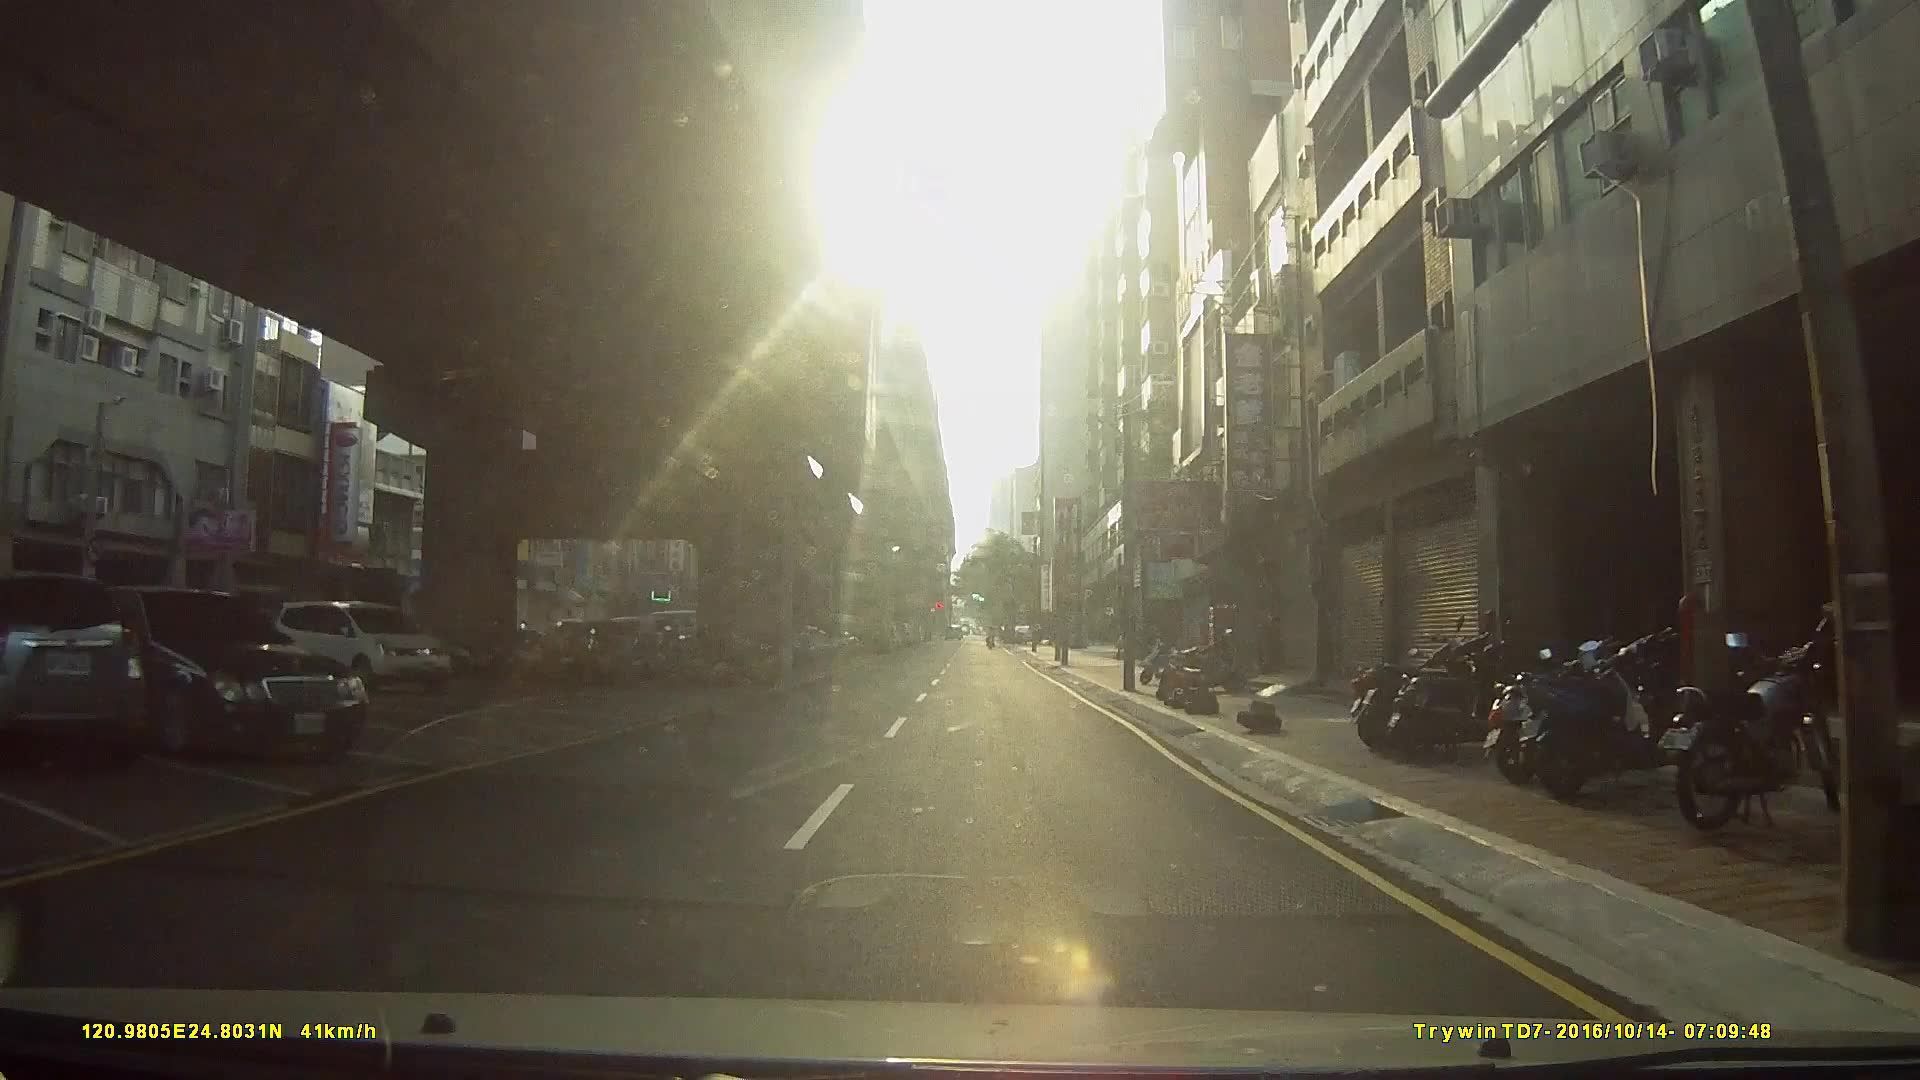vehicle: (54, 583, 371, 756), (3, 574, 138, 773), (269, 600, 448, 691)
